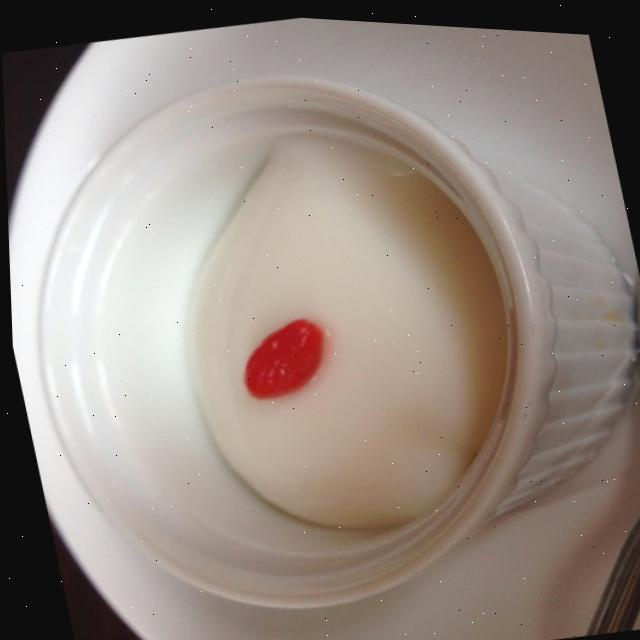米饭主食: (36, 72, 595, 636)
